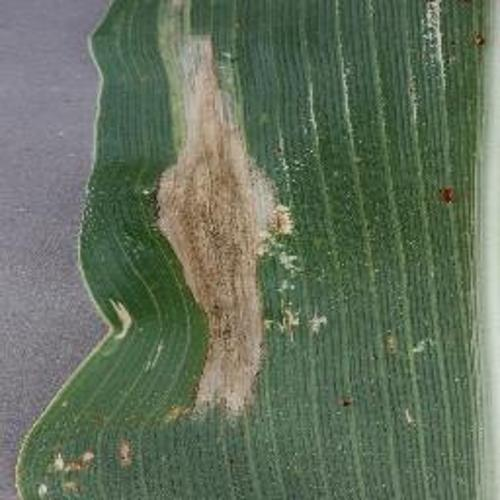Corn: (16, 0, 500, 500)
